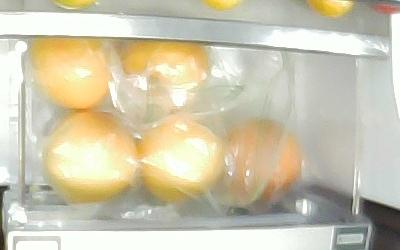grapefruit_vinyl: (44, 110, 138, 202), (137, 117, 222, 202), (223, 119, 300, 203), (119, 42, 209, 108), (31, 38, 110, 109)
